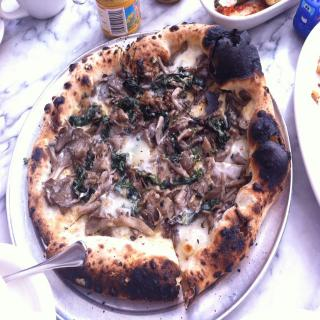Pizza: (26, 20, 292, 308)
